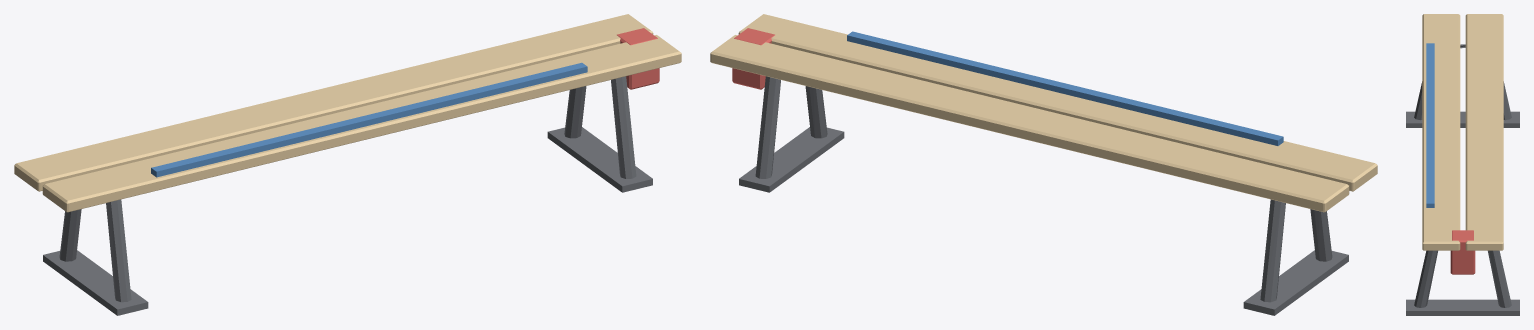
The model's file is community-sports-hall-and-changing-rooms-gym-bench-76cb03bd.glb.
The picture shows the model from 3 angles, left to right: view 1: azimuth 30°, elevation 25°; view 2: azimuth 150°, elevation 25°; view 3: azimuth 270°, elevation 25°; orthographic projection. The views are drawn at different scales.
Parts seen in each view (by area): view 1: gym-bench; view 2: gym-bench; view 3: gym-bench.
Part boxes in pixels (bbox=[...]): gym-bench: bbox=[14, 14, 681, 315]; gym-bench: bbox=[710, 14, 1377, 315]; gym-bench: bbox=[1406, 14, 1519, 315].
Size of the model in its own units: 2 by 0.3825 by 0.4199.
